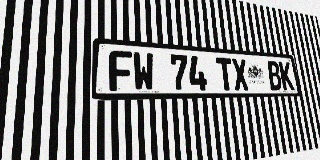4: (187, 55, 208, 91)
7: (169, 54, 190, 91)
B: (266, 61, 283, 90)
F: (109, 50, 133, 91)
K: (278, 61, 294, 90)
T: (216, 57, 235, 90)
W: (132, 52, 155, 91)
X: (231, 58, 249, 90)
